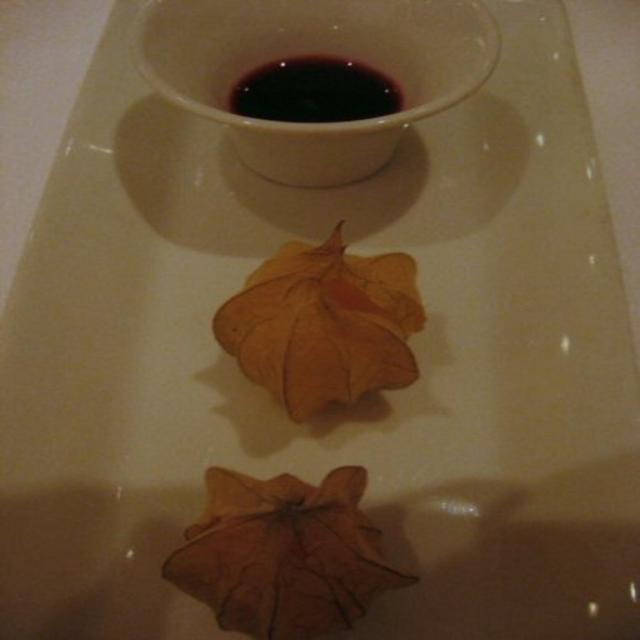Coffee: (232, 51, 398, 123)
Tea: (227, 59, 410, 124)
